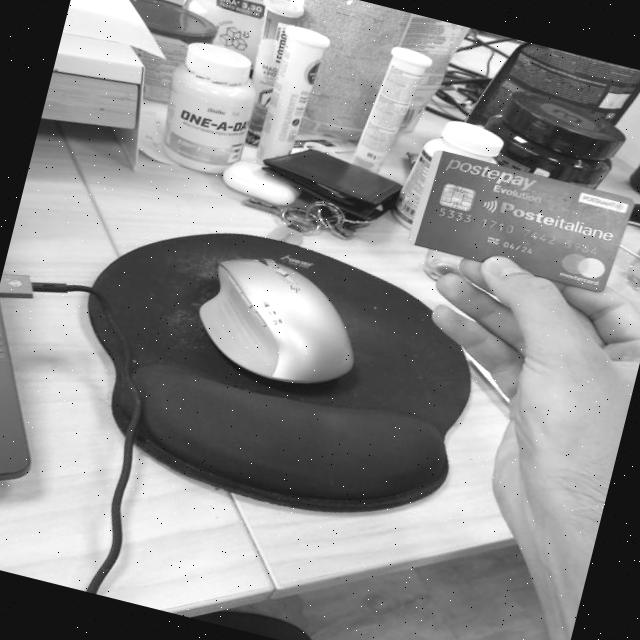card: (407, 150, 636, 296)
